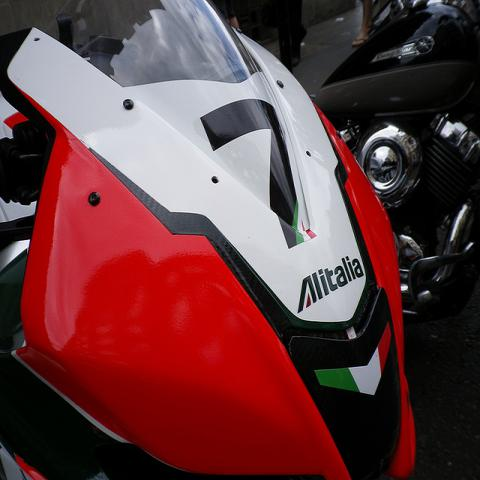motorcycle: (1, 2, 420, 470), (314, 3, 475, 468)
